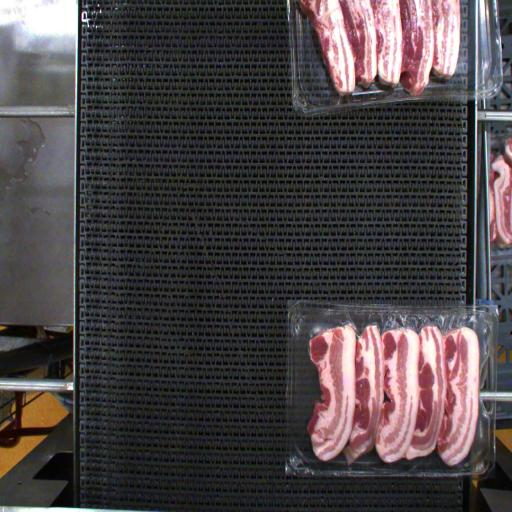unsealed: (294, 305, 493, 417)
